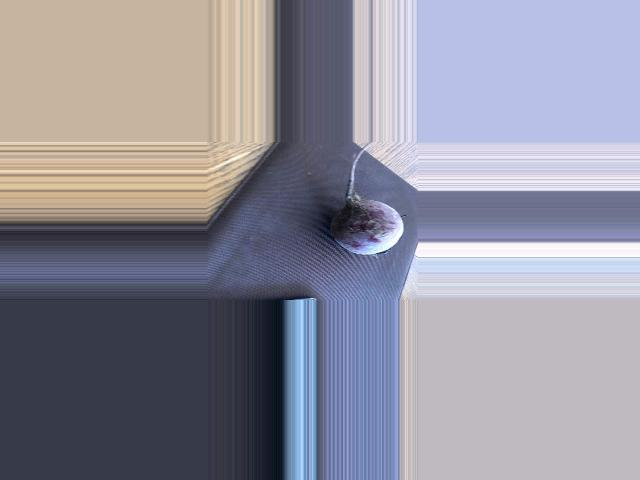beet: (330, 142, 402, 254)
